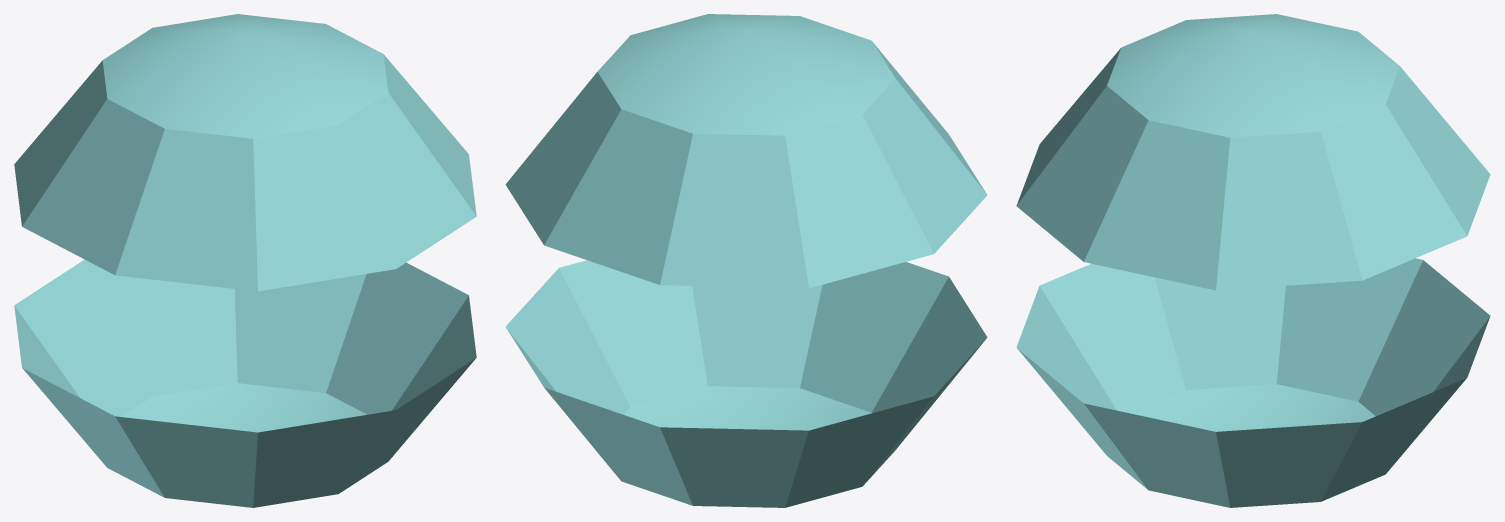
File: instrument3_outer_sphere.dae
The picture shows the model from 3 angles, left to right: view 1: azimuth 30°, elevation 25°; view 2: azimuth 150°, elevation 25°; view 3: azimuth 270°, elevation 25°; orthographic projection.
Parts seen in each view (by area): view 1: $dummy_node; view 2: $dummy_node; view 3: $dummy_node.
Part boxes in pixels (x1=…): $dummy_node: x1=14, y1=14, x2=476, y2=507; $dummy_node: x1=505, y1=14, x2=987, y2=507; $dummy_node: x1=1016, y1=14, x2=1490, y2=507.
Size of the model in its own units: 0.5052 by 0.5378 by 0.5052.
